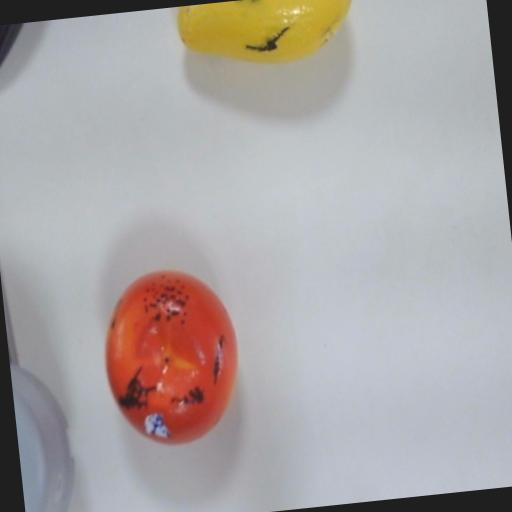Defective: (88, 256, 252, 461), (156, 0, 361, 72)
